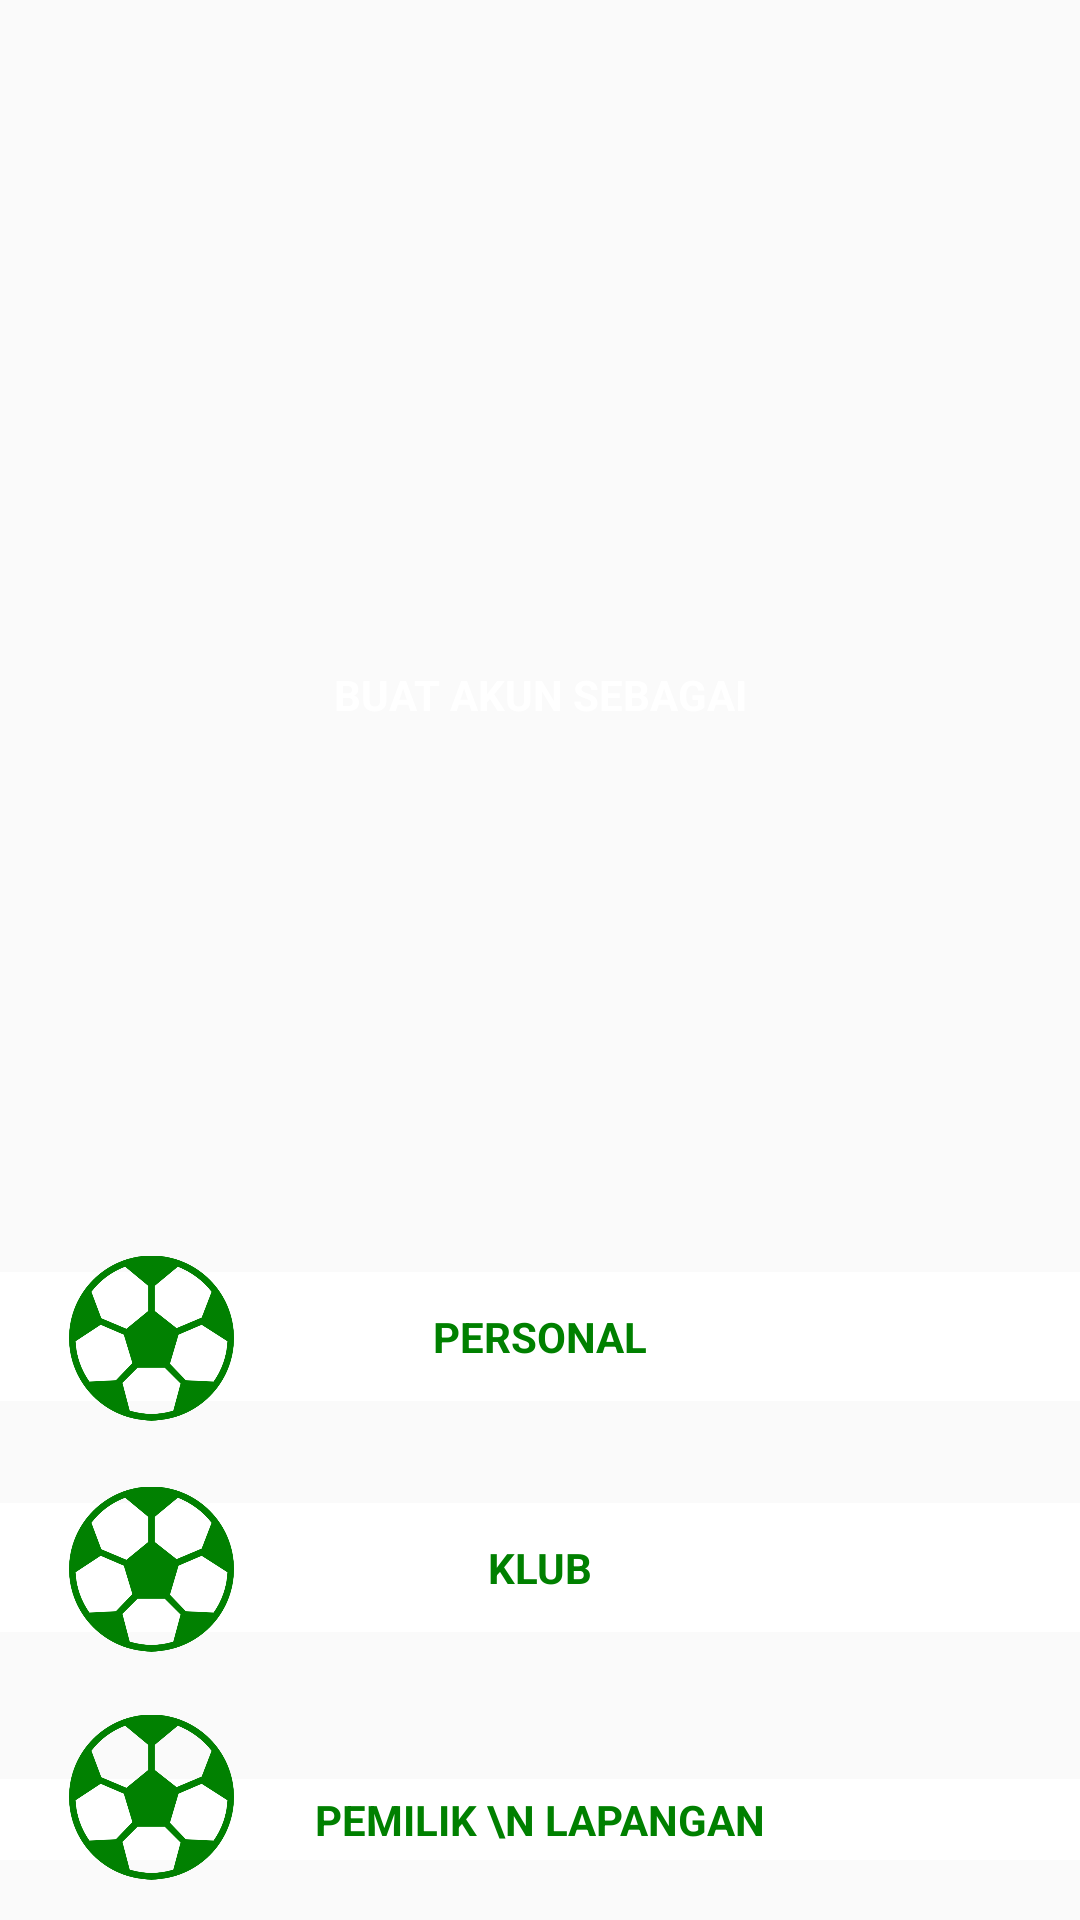

Named icons in this screenshot (1080 × 1920) and their centers, [x,y]:
bola: [151,1338], [151,1569], [151,1797]
